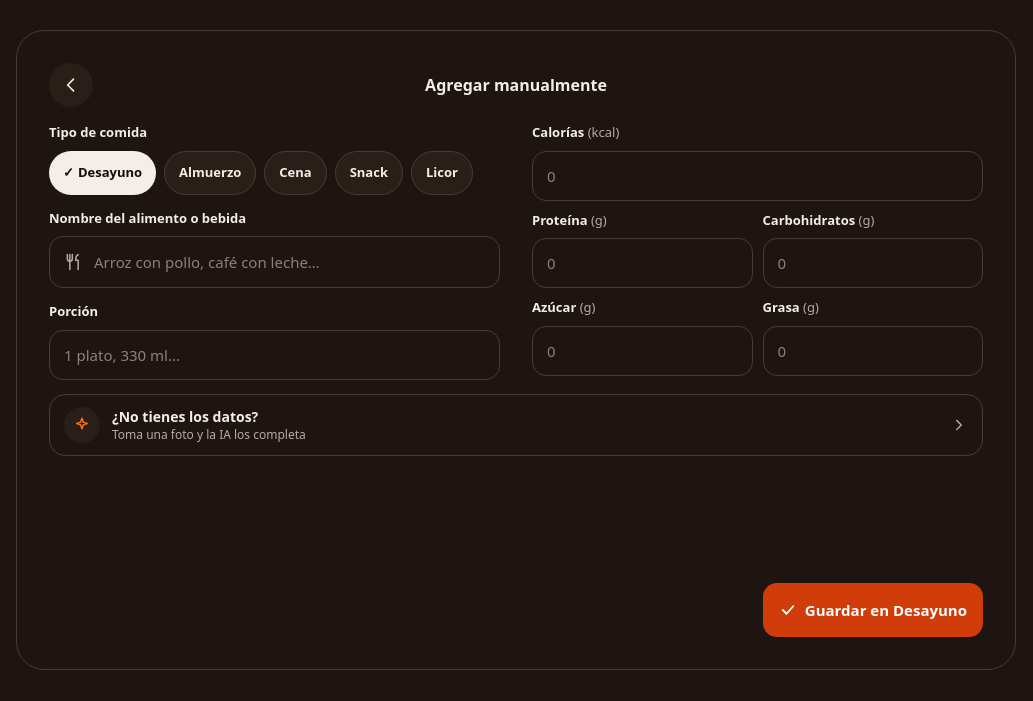
Test case: Comida: alcohol y foto › la marca de alcohol solo aparece en snacks y licores
Expected: the heading "Agregar manualmente" is shown, [425,74,607,96]
Expected: the switch labelled "Es una bebida con alcohol" is not shown
Click the button "Snack": [369, 172] box [335,150,403,194]
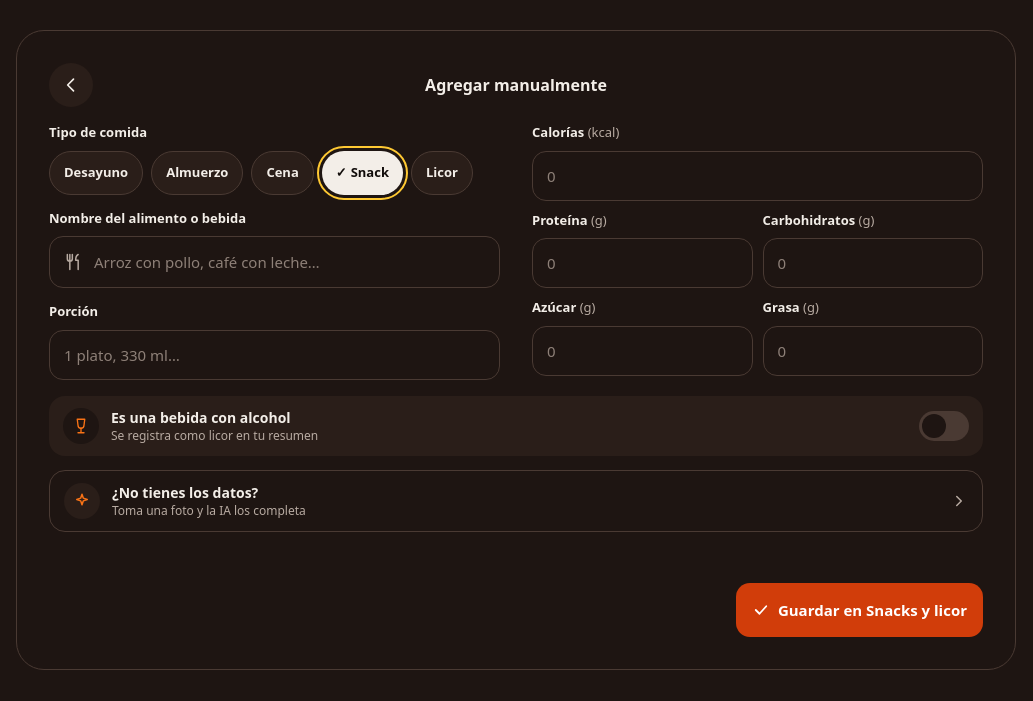
Expected: the switch named "Es una bebida con alcohol" is shown
Click the switch named "Es una bebida con alcohol": [944, 426] box [919,404,969,448]
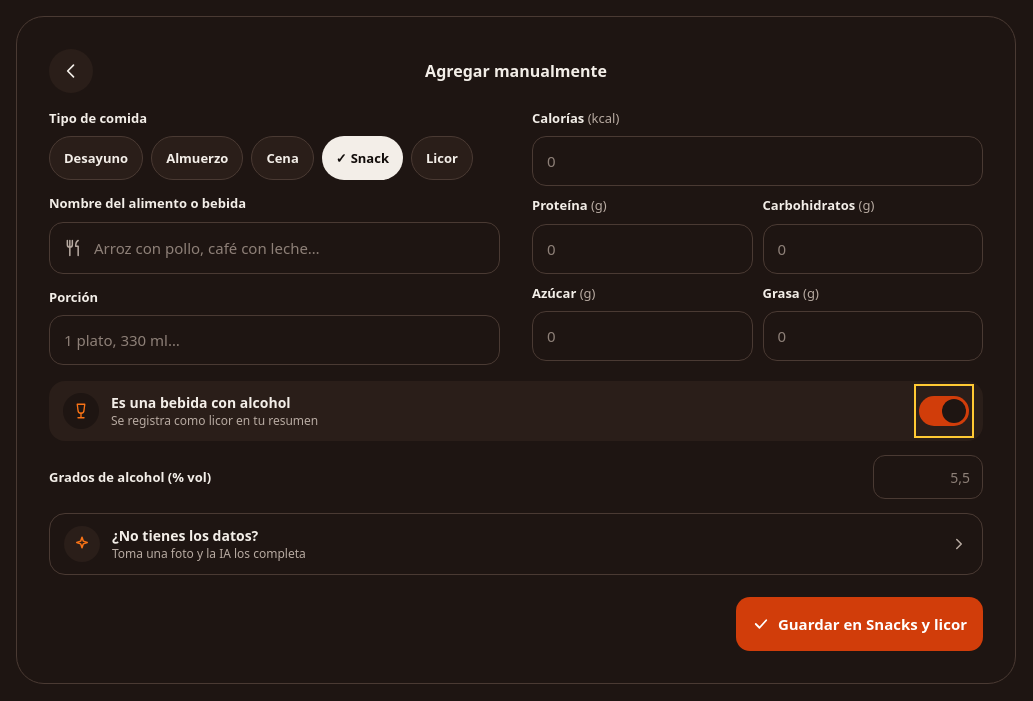
Expected: the switch named "Es una bebida con alcohol" is checked, [919,389,969,433]
Click the button "Cena": [283, 158] box [251,136,314,180]
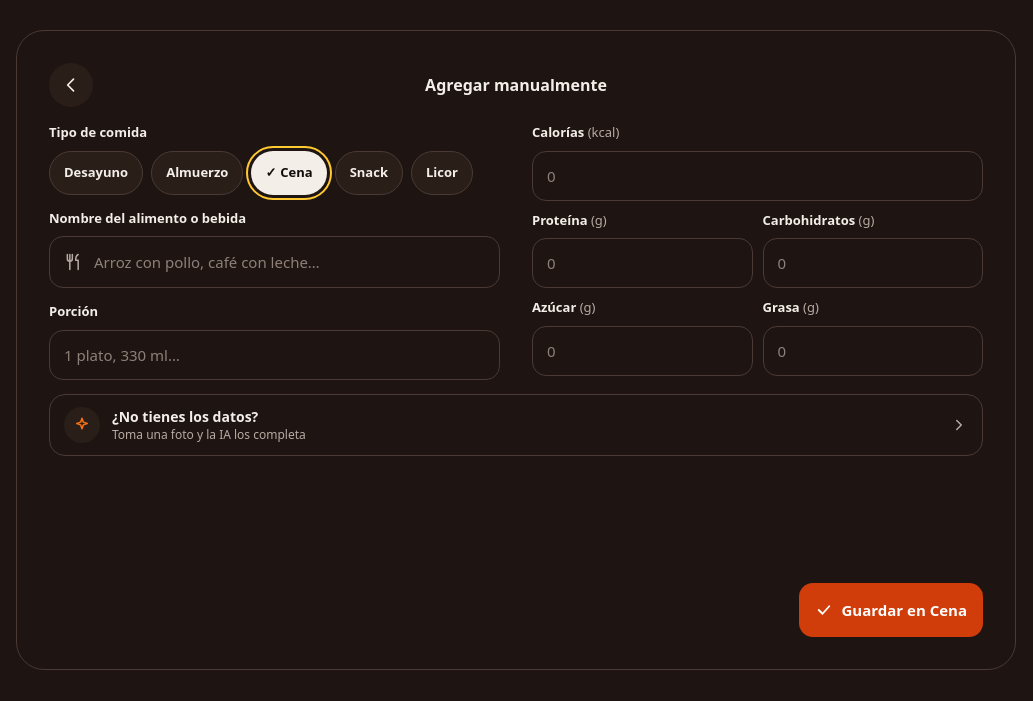
Expected: the text "Es una bebida con alcohol" is gone
Click the button "Licor": [442, 172] box [411,150,473,194]
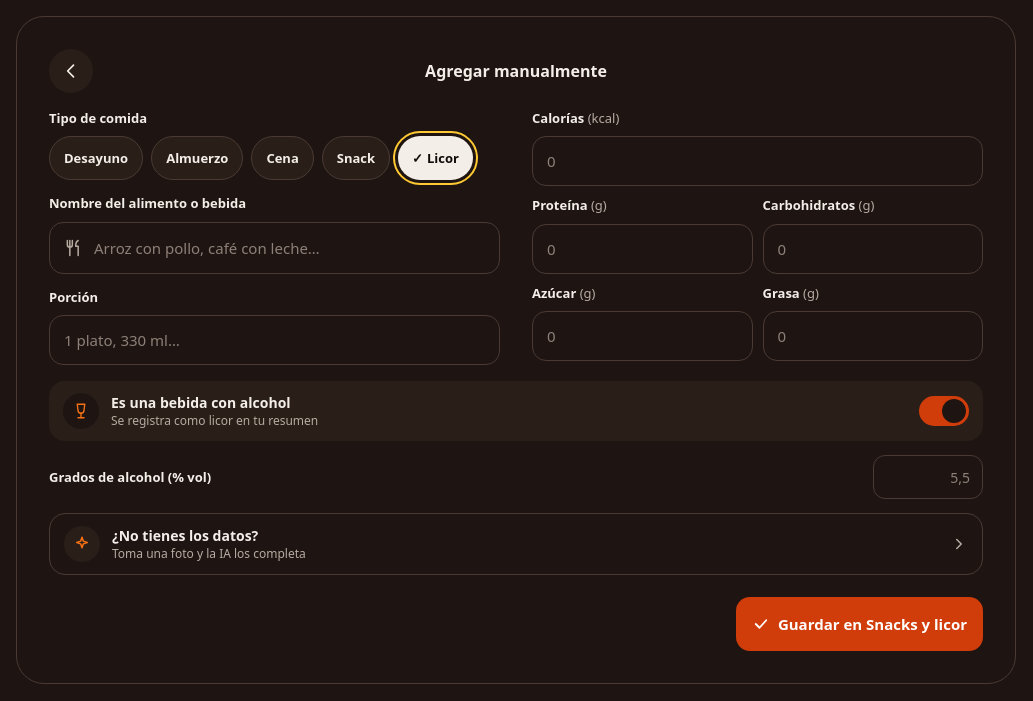
Expected: the switch named "Es una bebida con alcohol" is checked, [919,389,969,433]
